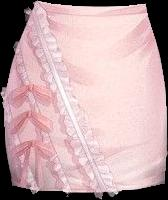Hemline: (11, 181, 165, 193)
Waistline: (31, 13, 105, 192), (19, 41, 70, 191), (5, 90, 38, 190), (33, 8, 148, 16), (35, 0, 145, 8)
